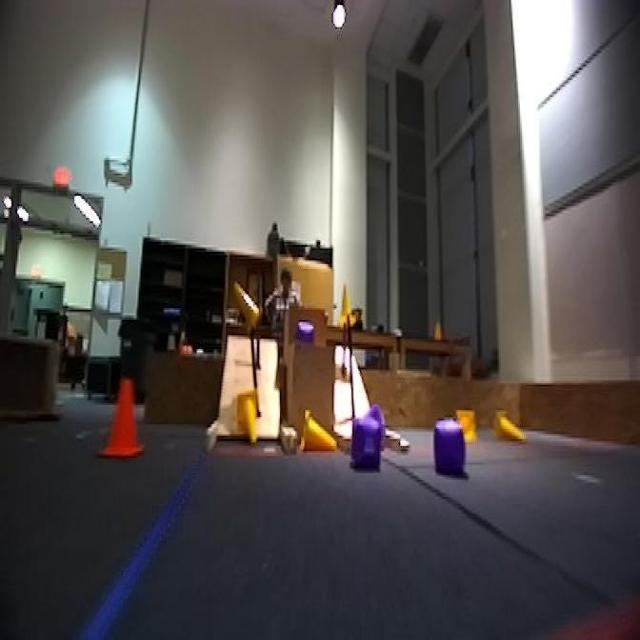frc_cone: (225, 274, 261, 335), (234, 388, 262, 449), (490, 408, 526, 446), (303, 410, 336, 451), (444, 407, 476, 437), (341, 288, 357, 330)
frc_cube: (351, 422, 379, 467), (433, 429, 460, 475), (294, 327, 317, 344)
